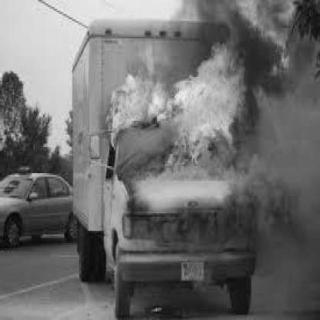Smoke: (189, 0, 241, 28), (256, 0, 295, 34)
